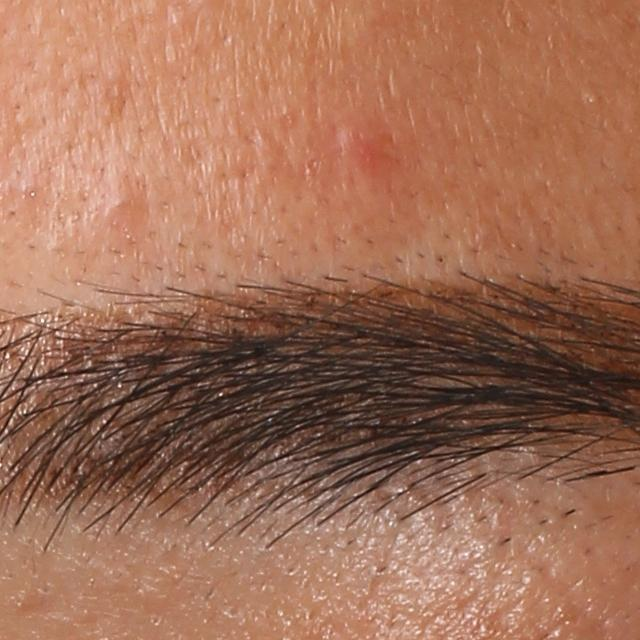comedo: (103, 180, 146, 231), (584, 91, 601, 108)
papule: (332, 120, 385, 175)
